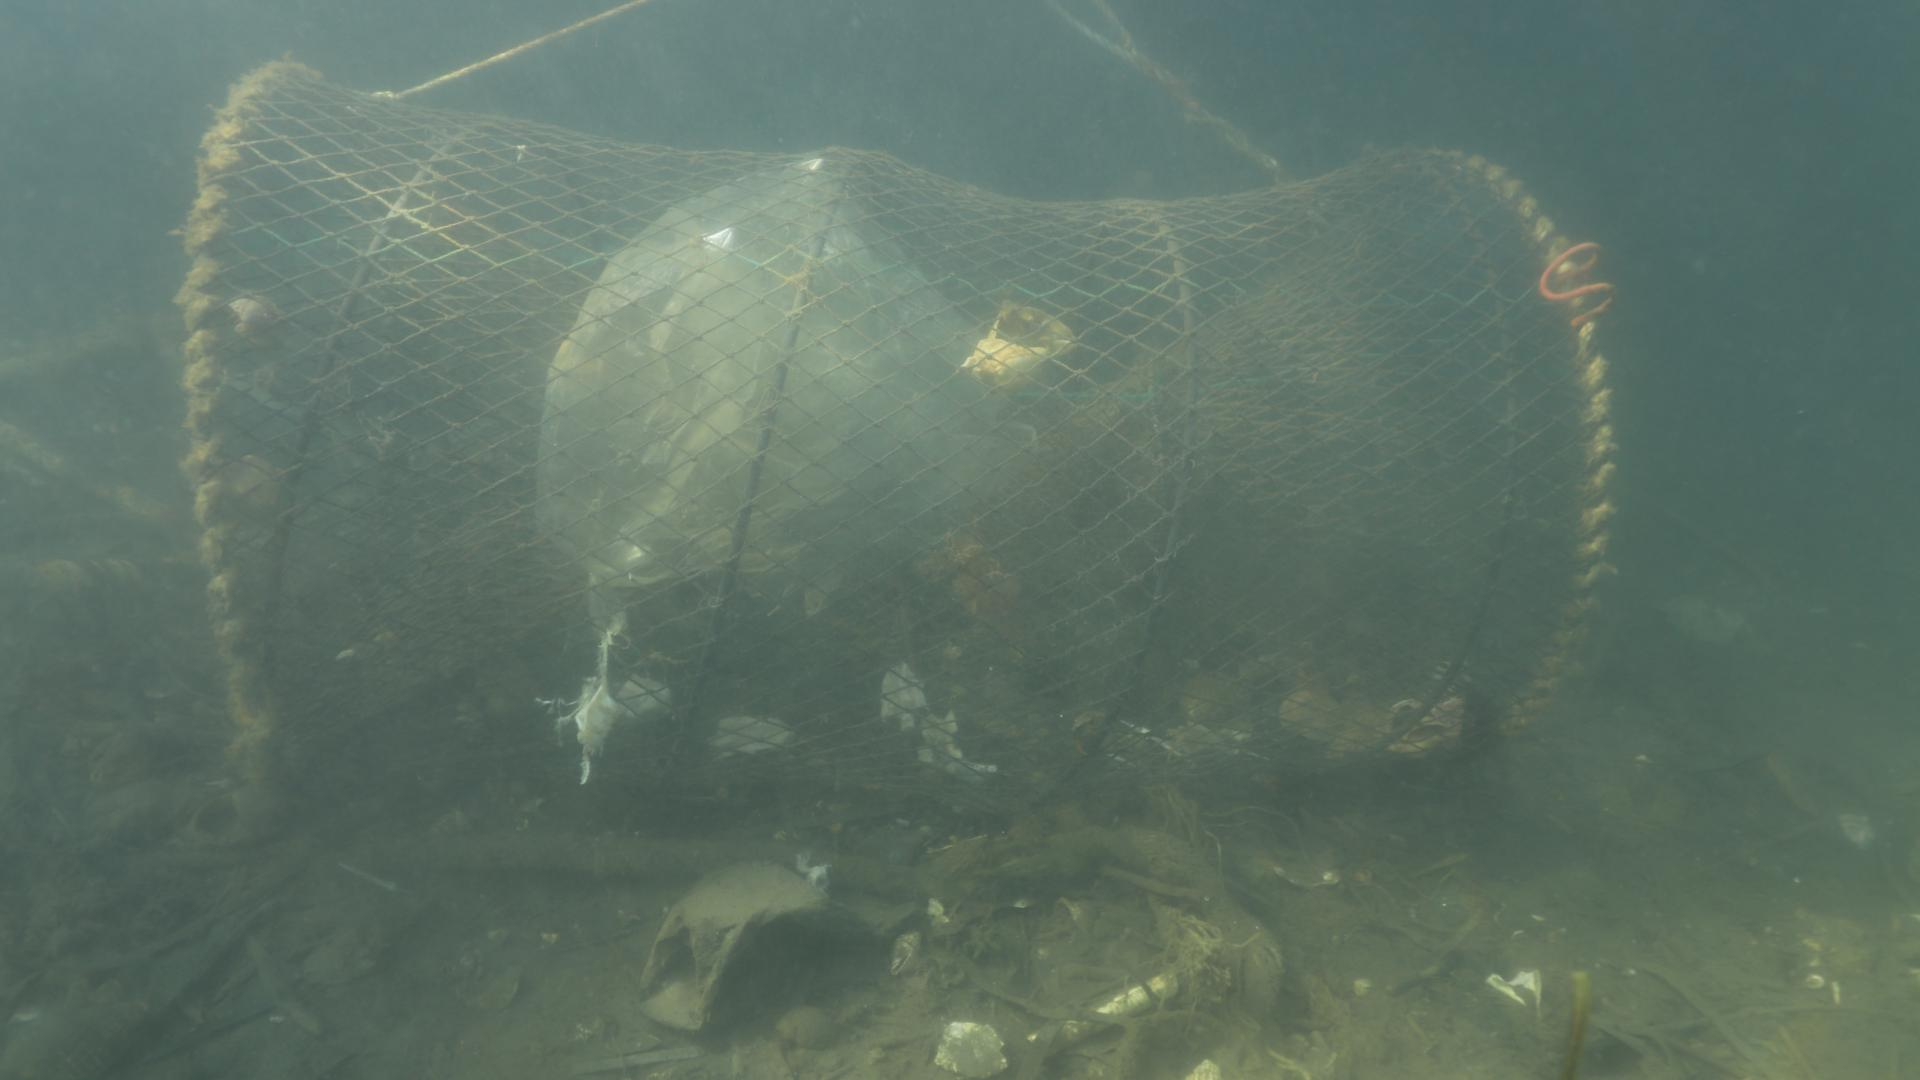spring fish trap: (173, 54, 1615, 843)
